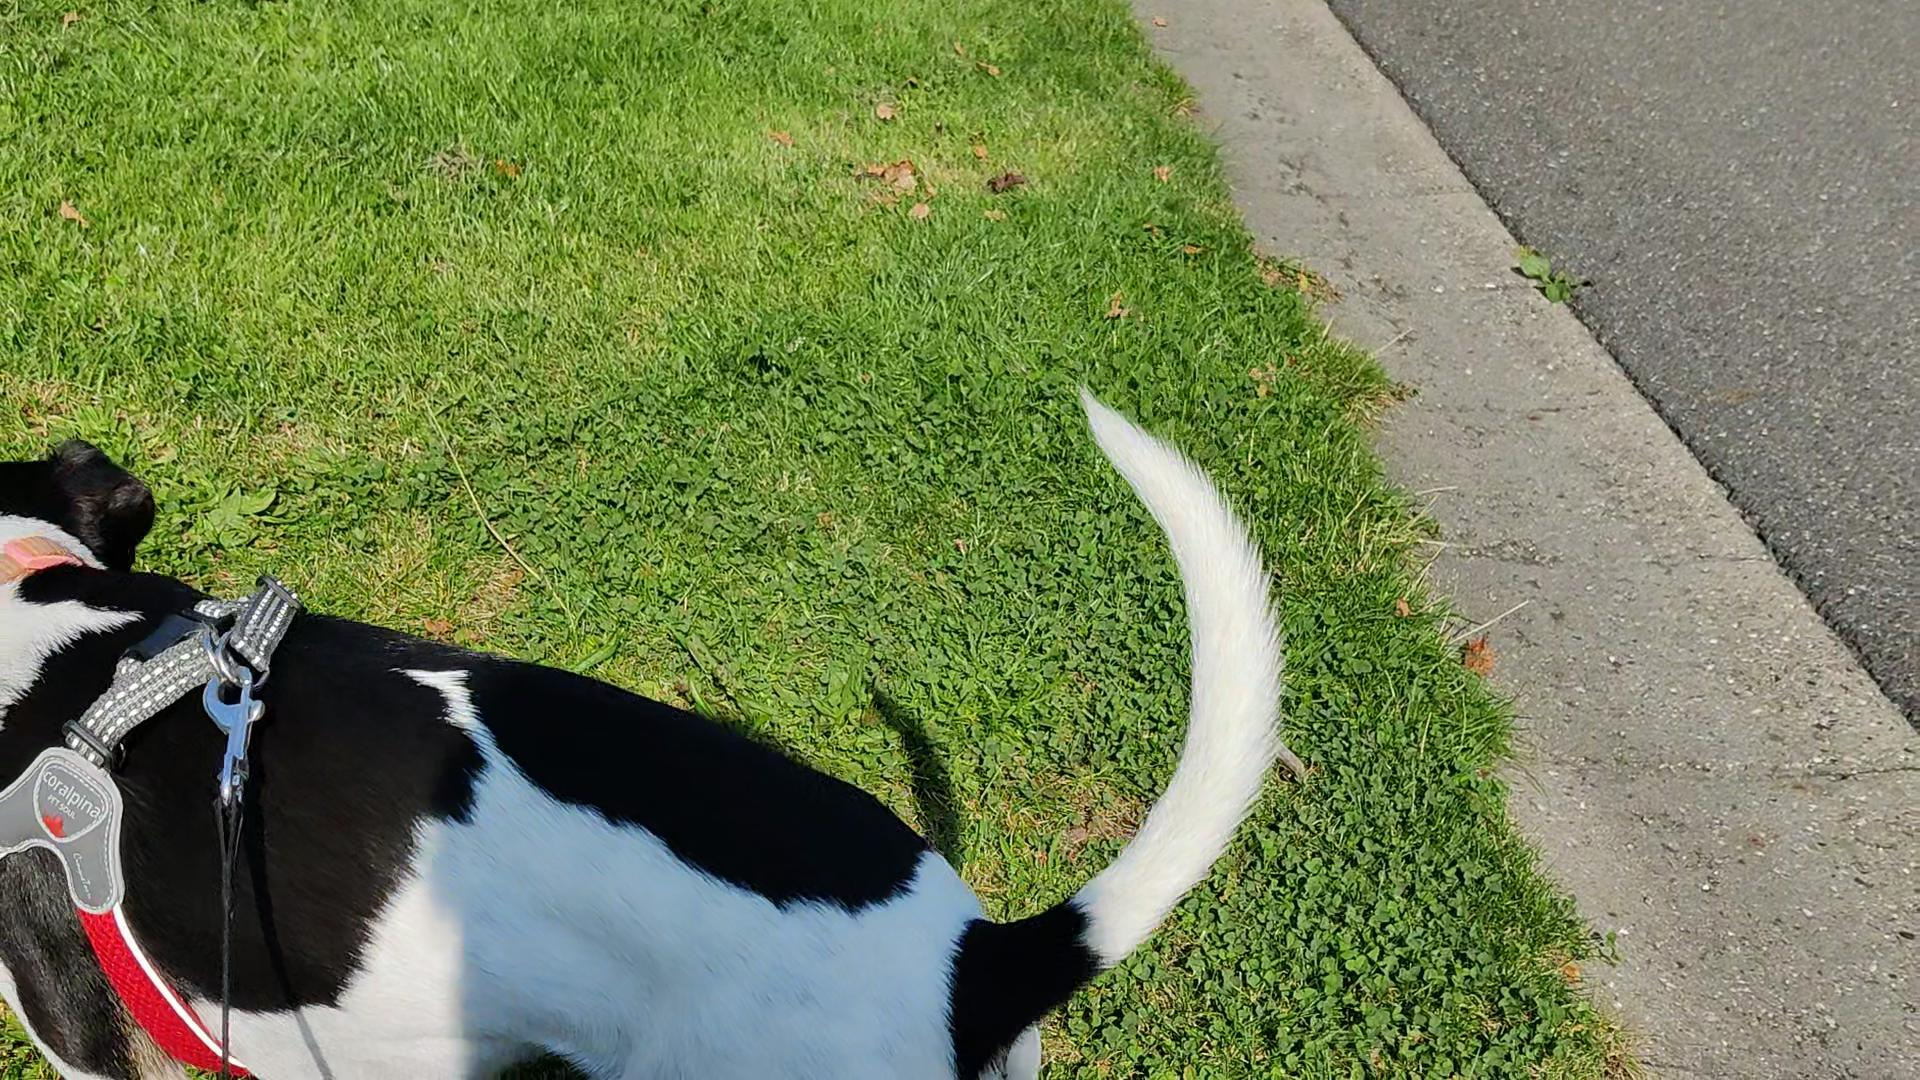Dog: (0, 356, 1327, 1079)
